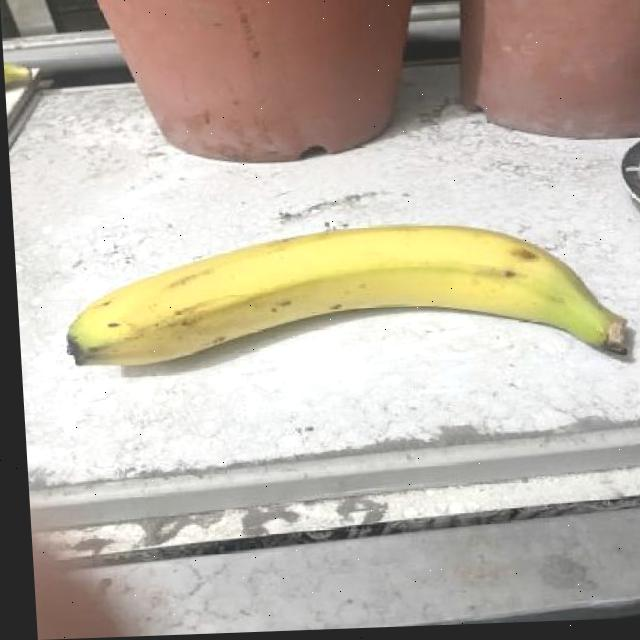banana: (52, 213, 637, 380)
